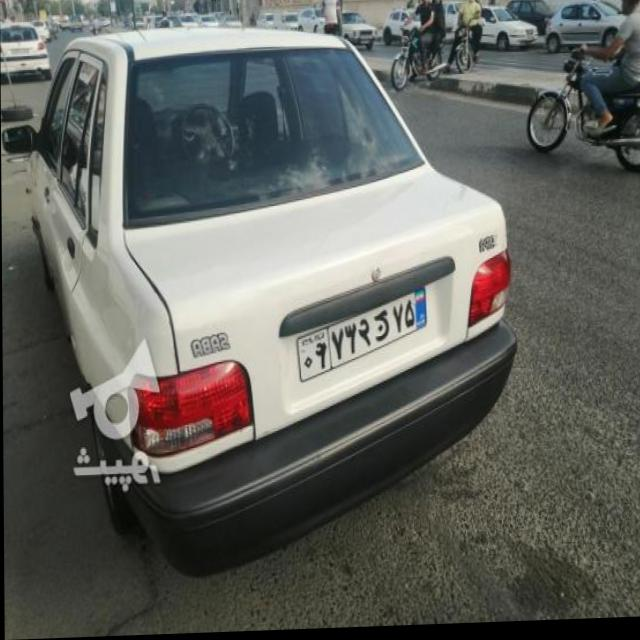licence: (295, 287, 430, 386)
